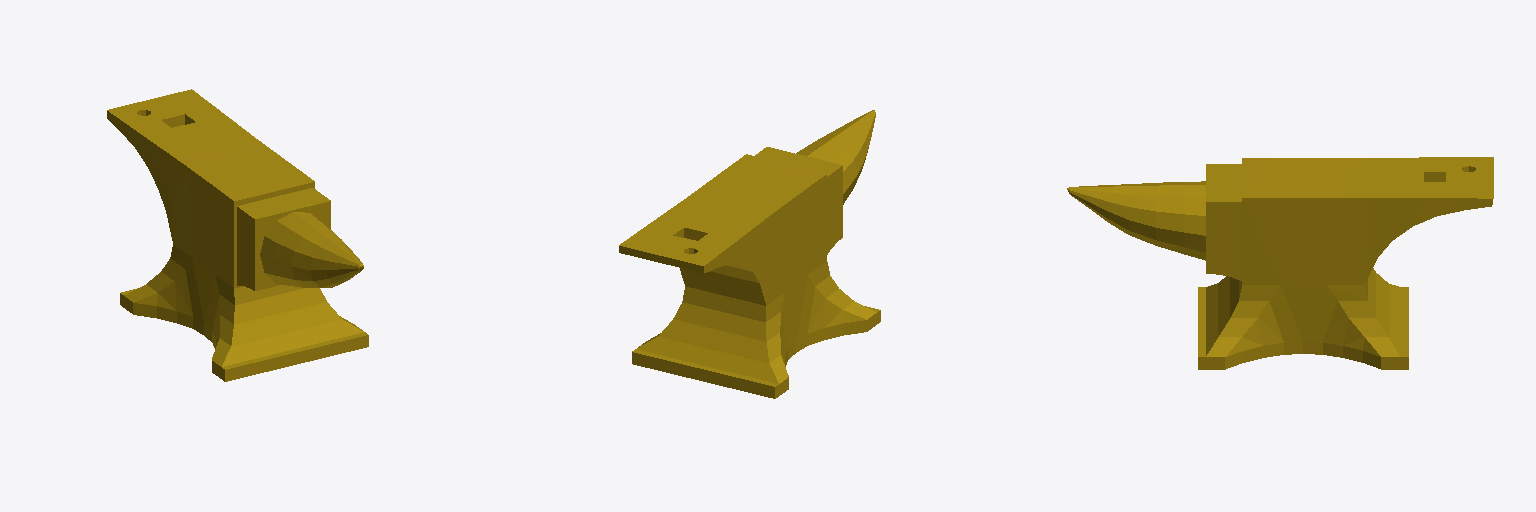
Rendered from AnvilLow.obj.
3 views of the same model, side by side, from view 1: azimuth 30°, elevation 25°; view 2: azimuth 150°, elevation 25°; view 3: azimuth 270°, elevation 25° (orthographic).
Parts seen in each view (by area): view 1: g Box002_Box002; view 2: g Box002_Box002; view 3: g Box002_Box002.
Part boxes in pixels (left/top/right/bottom): g Box002_Box002: left=107, top=89, right=368, bottom=381; g Box002_Box002: left=619, top=110, right=880, bottom=398; g Box002_Box002: left=1067, top=157, right=1493, bottom=369.
Bounding box in the file's own units: 45.29 × 47.33 × 117.